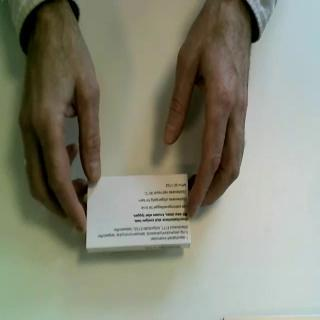oxycontin5mg: (85, 173, 191, 255)
